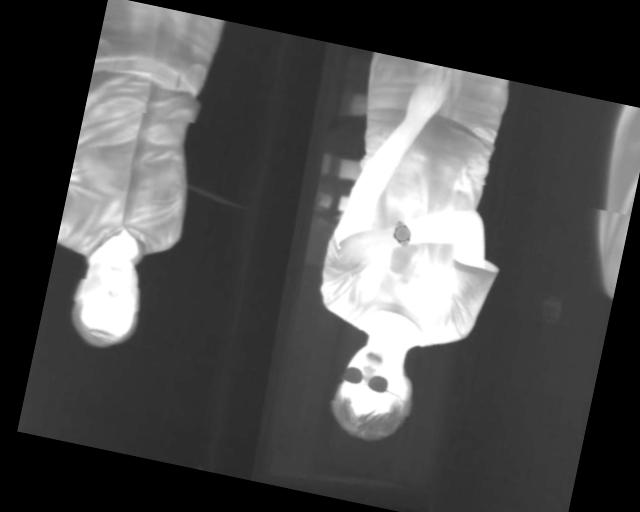face: (323, 333, 424, 450), (62, 243, 150, 355)
